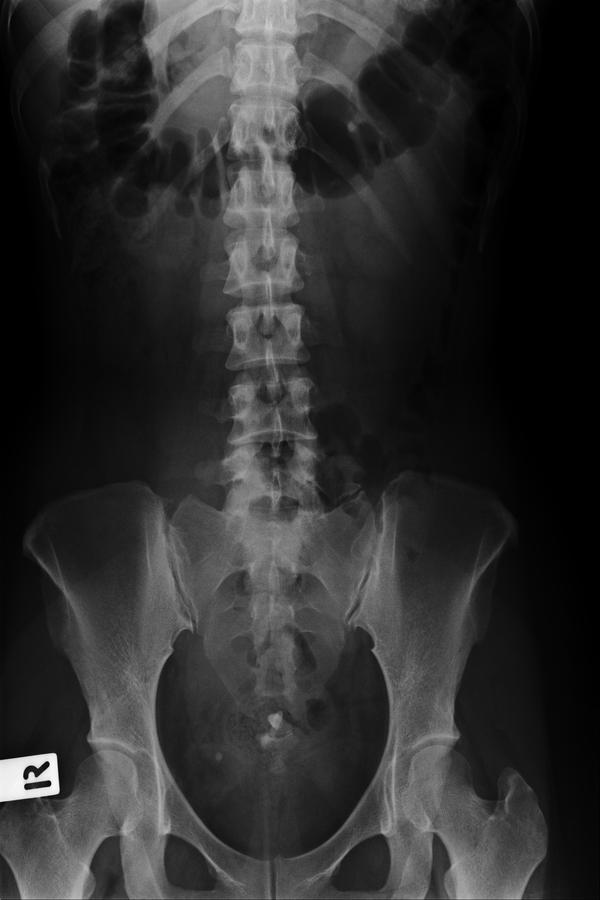lumbar scoliosis: (205, 6, 328, 552)
